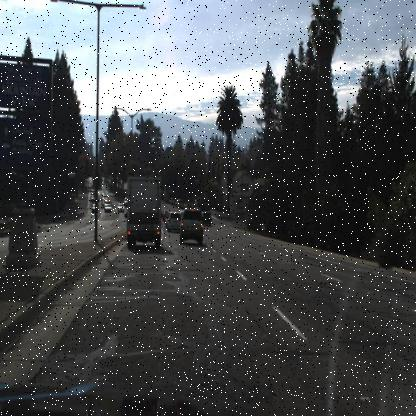car: (178, 206, 205, 246), (166, 214, 182, 232), (200, 206, 212, 227), (116, 202, 126, 214), (116, 201, 126, 213), (174, 197, 184, 209), (104, 201, 113, 213), (169, 196, 175, 207)
truck: (125, 172, 163, 248)
